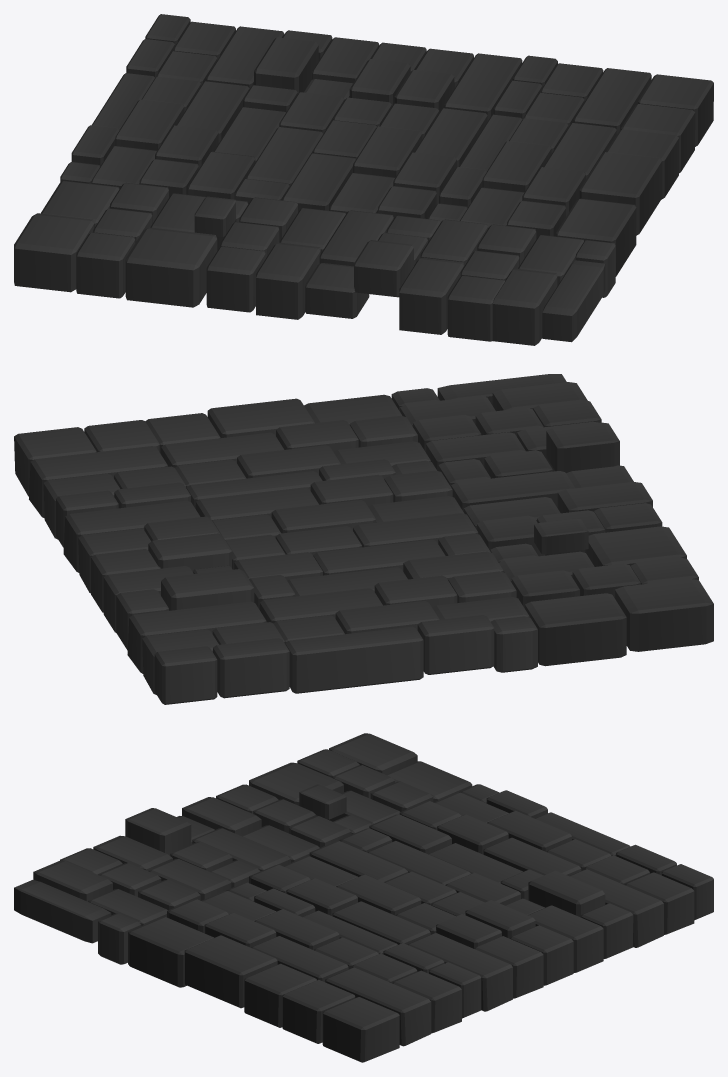
File: floor_Start.fbx
3 renders of one model, top to bottom at view 1: azimuth 30°, elevation 25°; view 2: azimuth 150°, elevation 25°; view 3: azimuth 270°, elevation 25°, orthographic. The views are drawn at different scales.
Visible parts, largest first — view 1: pCube134_1.002; view 2: pCube134_1.002; view 3: pCube134_1.002.
Boxes of the visible parts, <box> form: pCube134_1.002: <box>14,14,713,345</box>; pCube134_1.002: <box>14,374,713,704</box>; pCube134_1.002: <box>14,733,713,1062</box>.
Size of the model in its own units: 16.68 by 1.59 by 16.75.
Materials: 1 (1 with a texture image).
